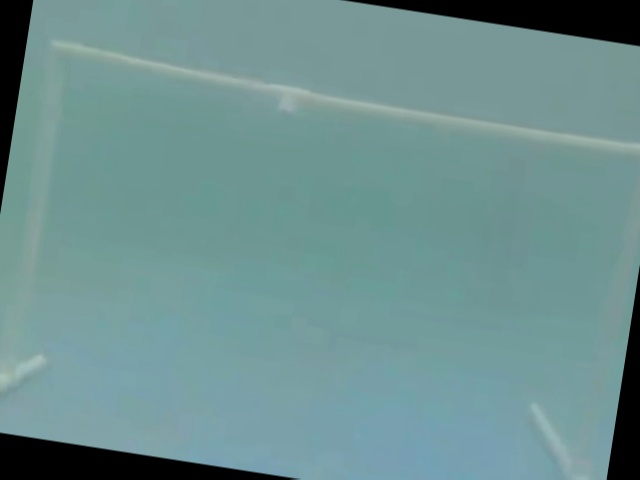gate: (8, 33, 640, 477)
